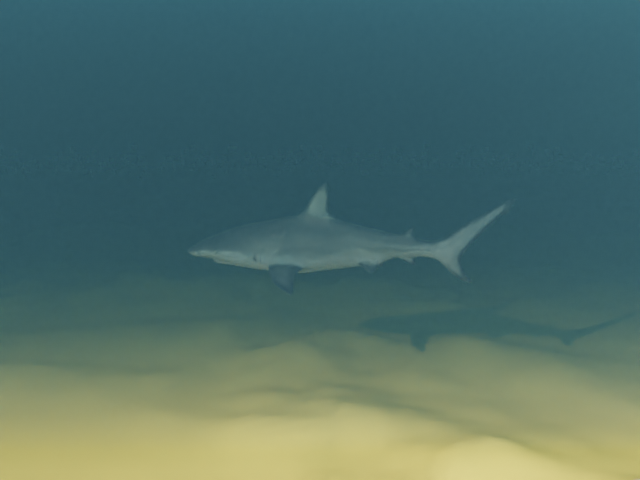Carribean Shark.001: (187, 183, 516, 294)
